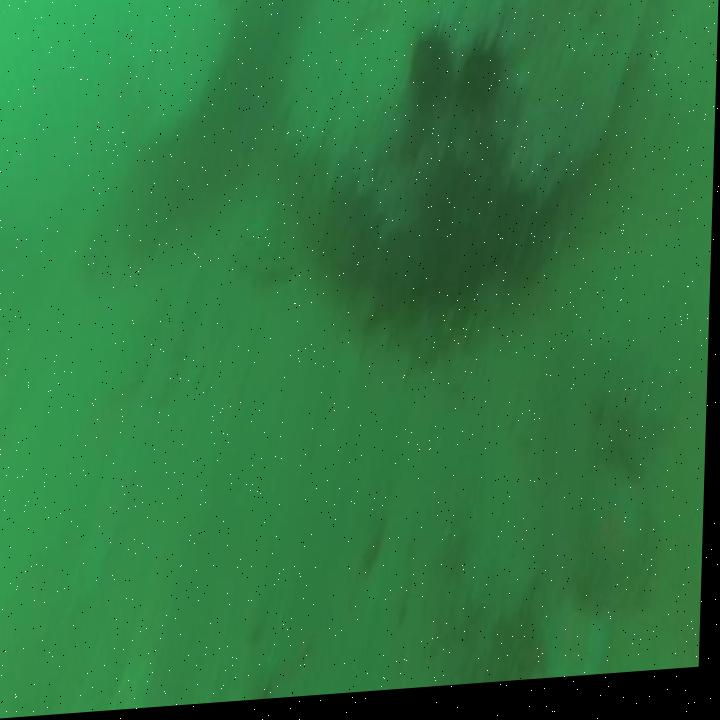echinus: (401, 21, 458, 122), (456, 27, 509, 135)
starfish: (599, 376, 672, 506)
